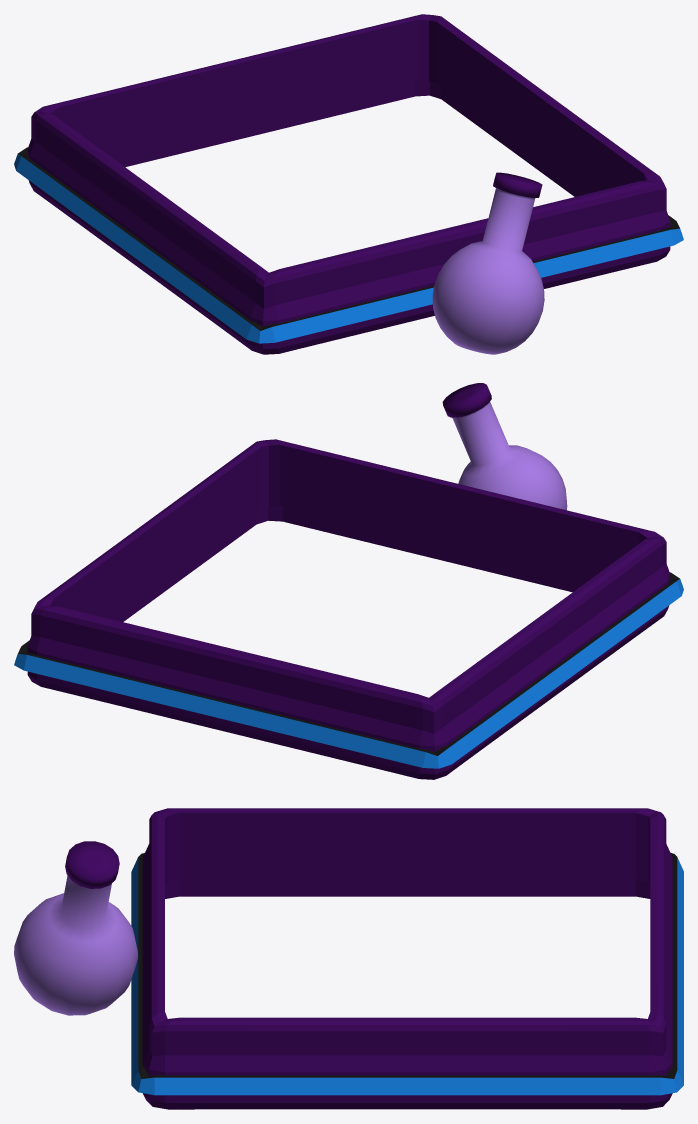
File: CouronnePoison2.fbx
3 renders of one model, top to bottom at view 1: azimuth 30°, elevation 25°; view 2: azimuth 150°, elevation 25°; view 3: azimuth 270°, elevation 25°, orthographic. The views are drawn at different scales.
Visible parts, largest first — view 1: CouronnePoison; view 2: CouronnePoison; view 3: CouronnePoison.
Part boxes in pixels (bbox=[...]): CouronnePoison: bbox=[14, 14, 683, 354]; CouronnePoison: bbox=[14, 383, 683, 779]; CouronnePoison: bbox=[14, 808, 683, 1109].
Size of the model in its own units: 216 by 77.58 by 262.
